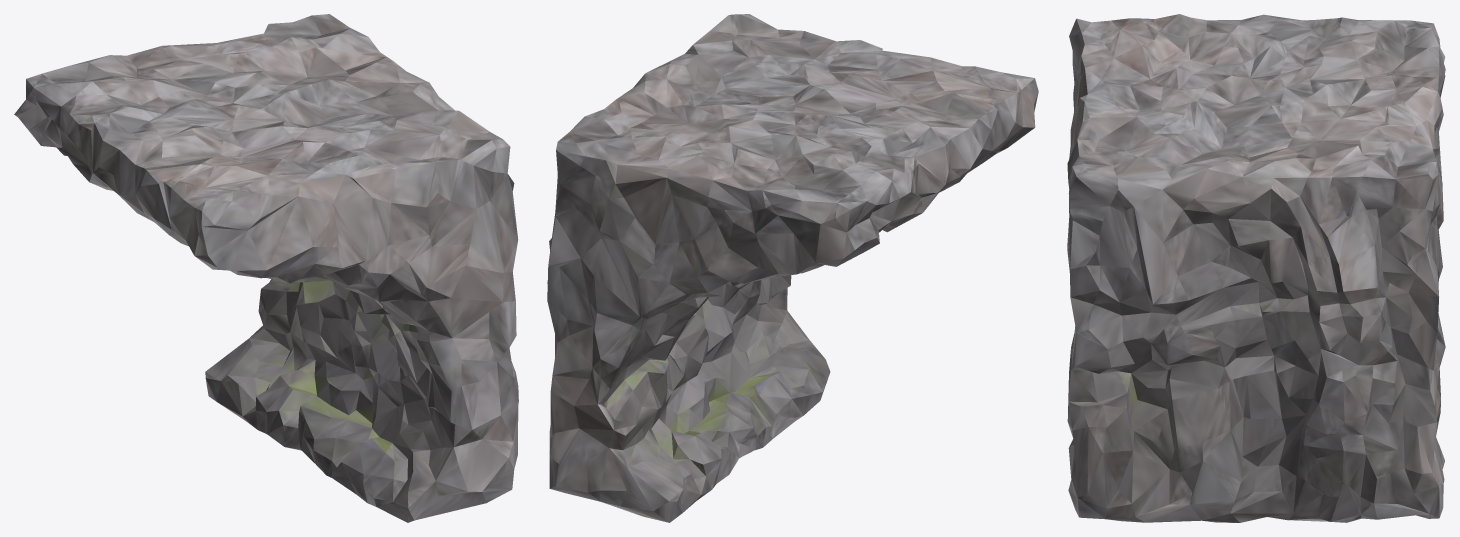
File: SM_cv_rock_a.glb
3 views of the same model, side by side, from view 1: azimuth 30°, elevation 25°; view 2: azimuth 150°, elevation 25°; view 3: azimuth 270°, elevation 25° (orthographic).
Bounding box in the file's own units: 17.9 × 18.02 × 16.52.
1 material, 1 textured.
